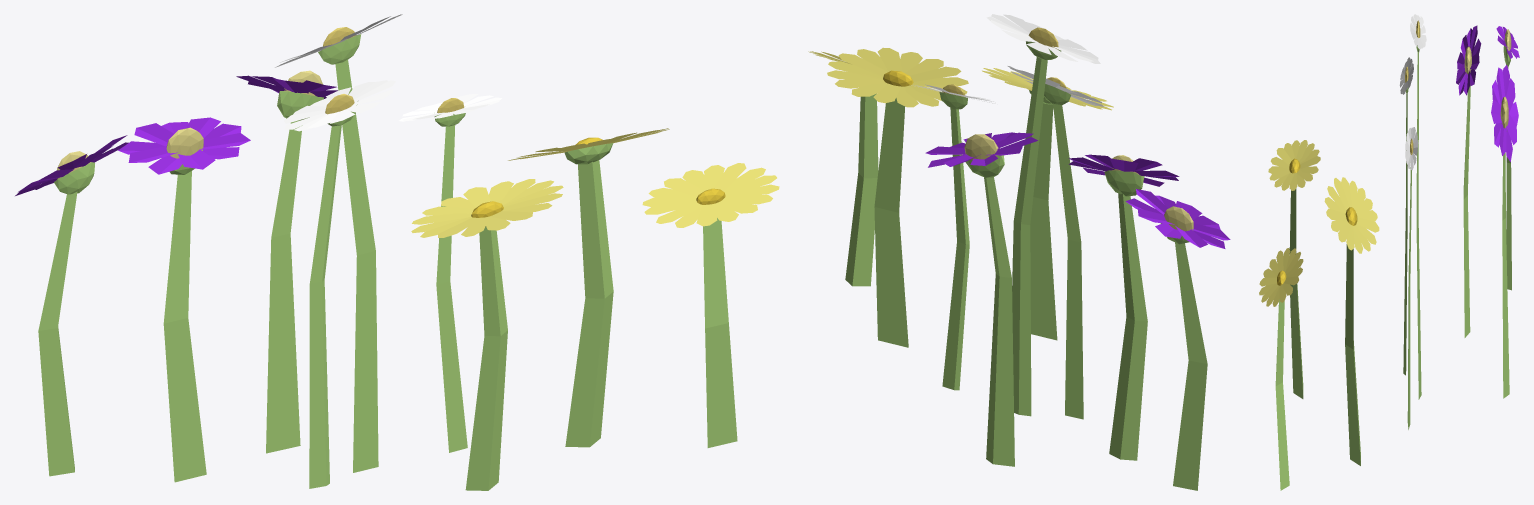
File: SPW_Natures_Flower.gltf
The picture shows the model from 3 angles, left to right: view 1: azimuth 30°, elevation 25°; view 2: azimuth 150°, elevation 25°; view 3: azimuth 270°, elevation 25°; orthographic projection. The views are drawn at different scales.
Parts seen in each view (by area): view 1: Flower02, Flower03, Flower01; view 2: Flower03, Flower02, Flower01; view 3: Flower02, Flower03, Flower01.
Boxes of the visible parts, x1,y1,x2,y2 form: Flower02: (411,128,779,490); Flower03: (15,70,337,482); Flower01: (275,14,501,488); Flower03: (925,132,1230,490); Flower02: (808,47,1113,347); Flower01: (911,14,1104,419); Flower02: (1259,140,1379,490); Flower03: (1456,25,1519,398); Flower01: (1399,14,1426,429).
Bounding box in the file's own units: 3.1 × 2.19 × 1.39.
